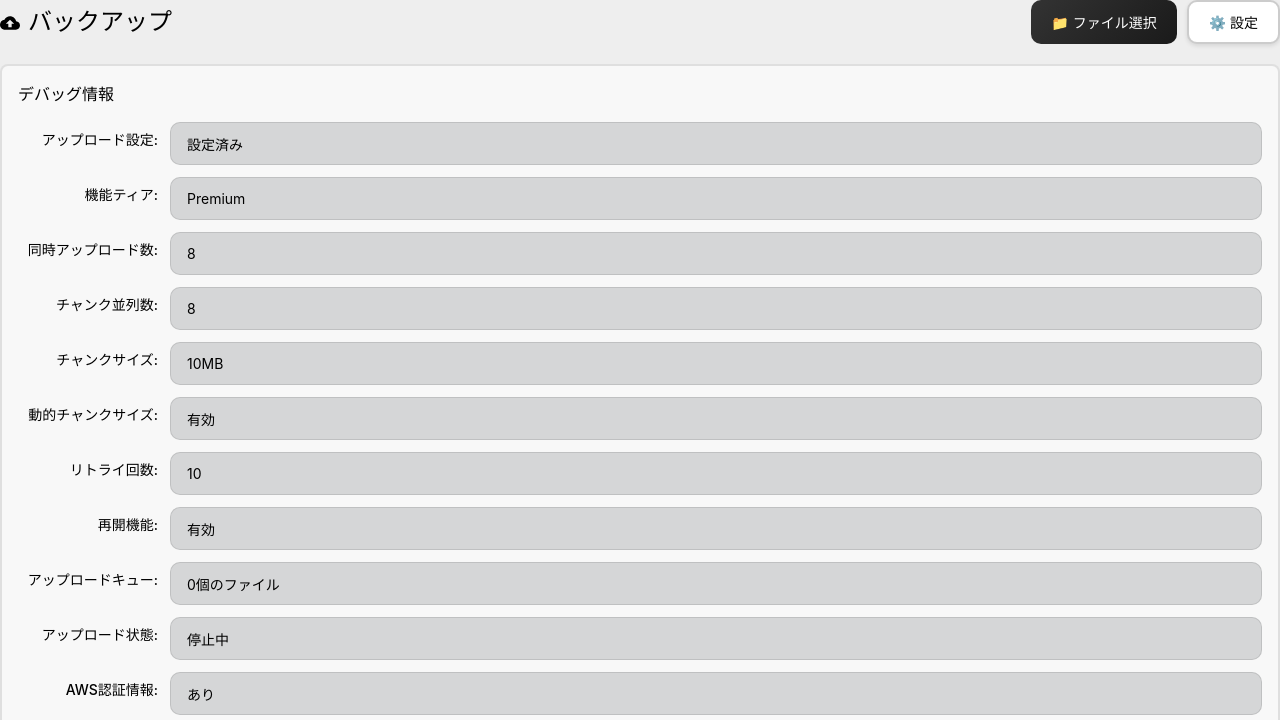
Scenario: UploadManager › should handle upload queue item removal
Expected: the field showing "設定済み" next to "アップロード設定:" is shown, [170, 122, 1262, 165]
ファイル選択ボタンをクリック
What coordinates should you click on to do the following:
click the button "📁 ファイル選択"
I would click on:
 (1104, 22)
Its box is [1031, 0, 1177, 44].
(page scrolled)
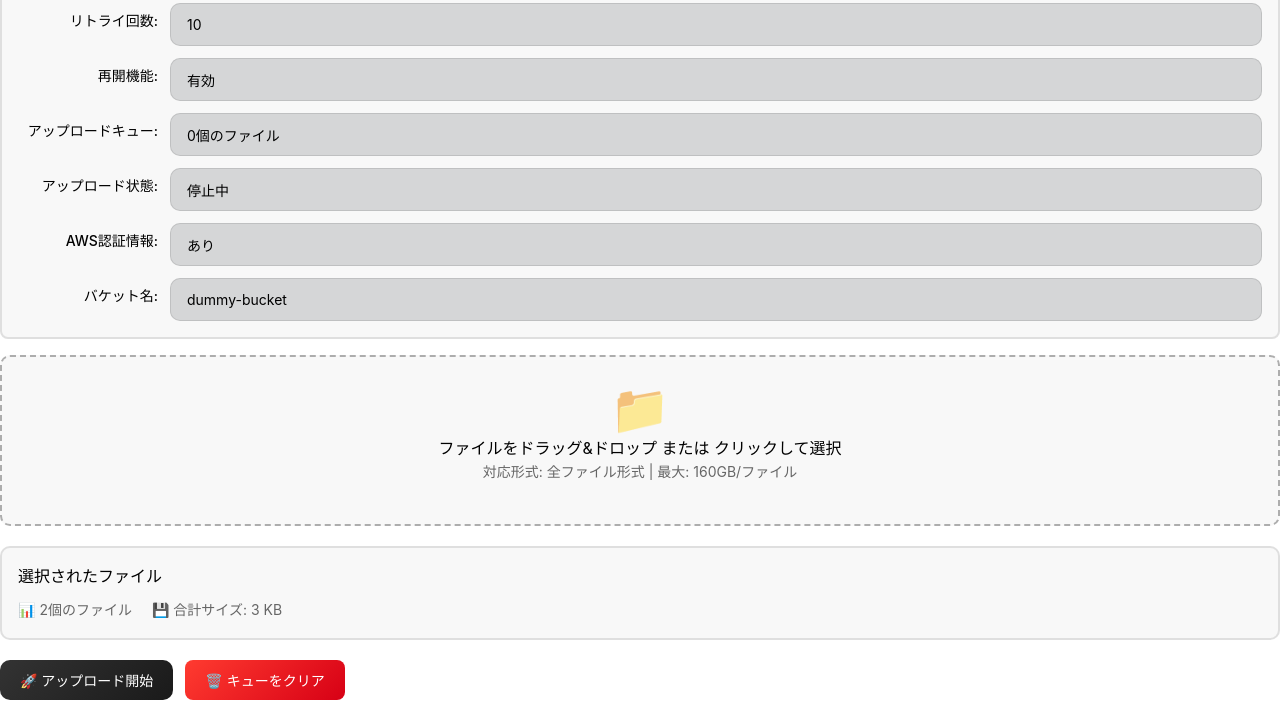
Expected: the button "🚀 アップロード開始" is shown
What coordinates should you click on to do the following:
click the button "🚀 アップロード開始"
I would click on:
 (87, 680)
Its box is [0, 660, 173, 700].
(page scrolled)
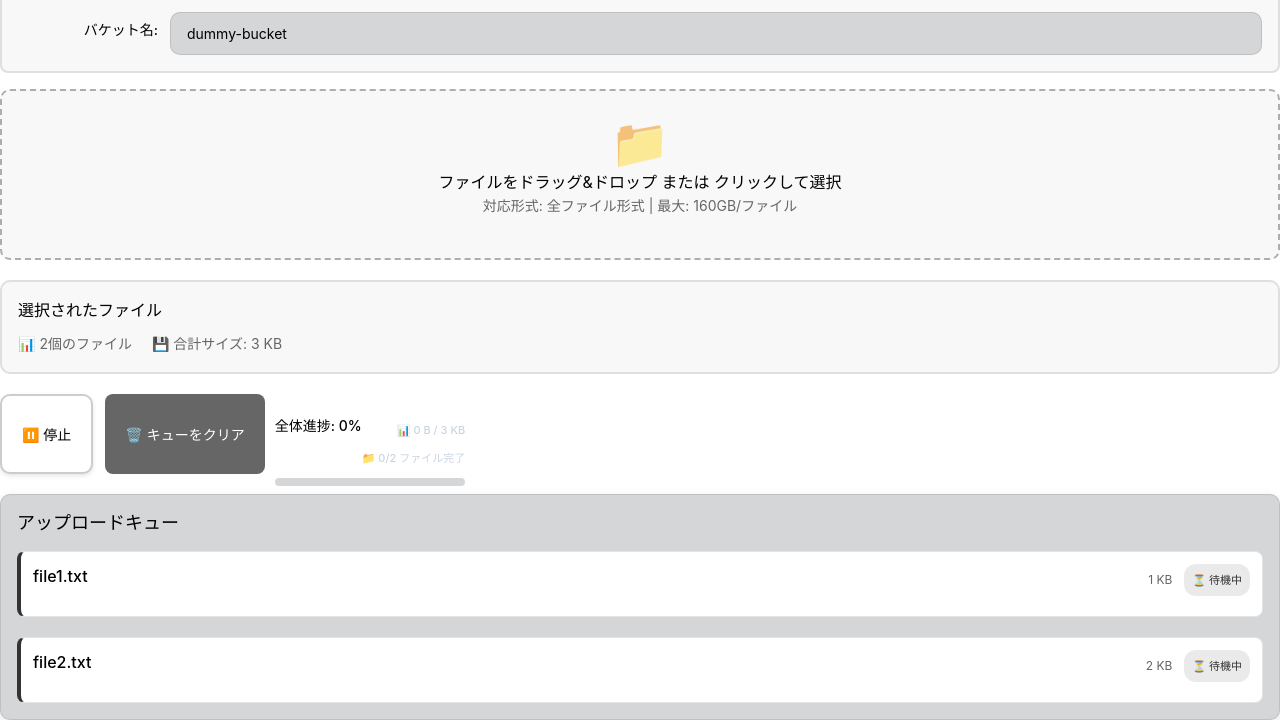
Expected: the text "file1.txt" is shown, [33, 566, 88, 586]
